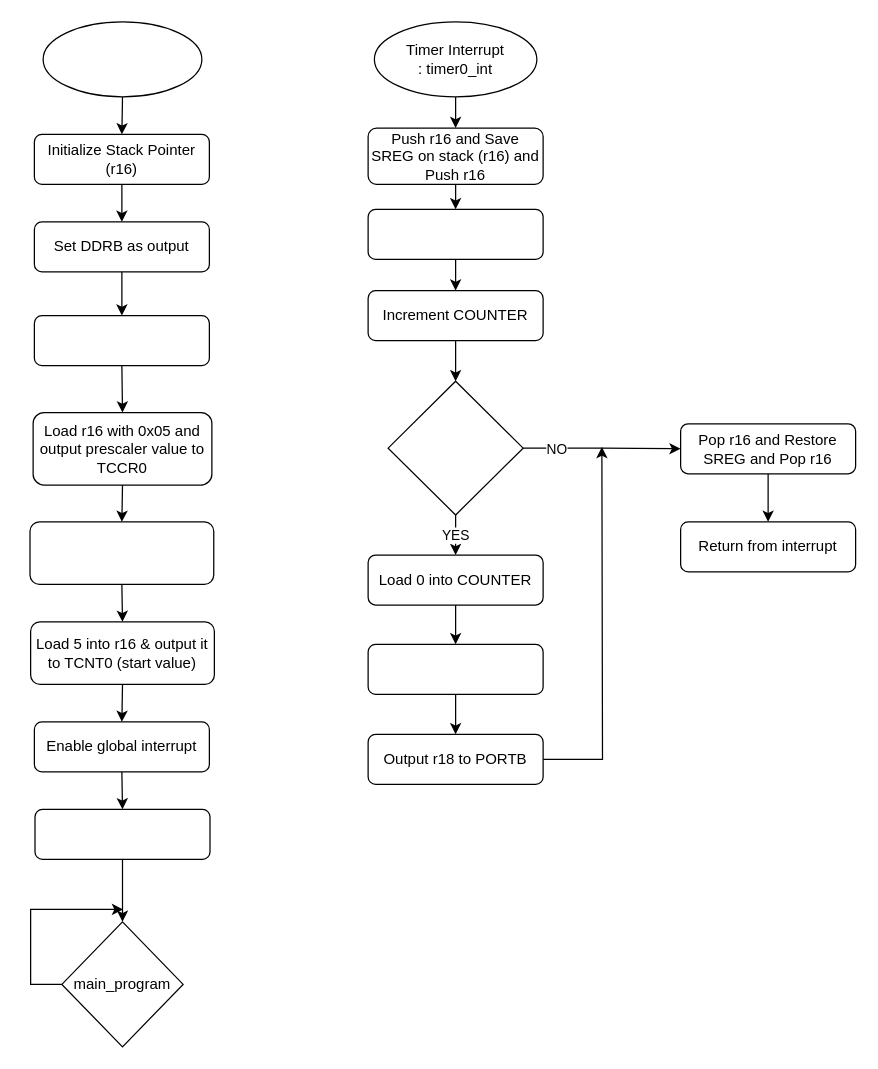
Image size: 878x1069. Some labels were removed from this diagram. The centre of each missing label's shape, as x and y in pixels:
Complementary of the register r18: pixel 455 668
Enable TIMER0: pixel 121 552
Is COUNTER == 2 ?: pixel 455 447
Load 0xFF into r18 Output r18 into PORTB: pixel 121 340
Load 5 into TCNT0: pixel 455 233
Rename r21 into COUNTER: pixel 122 833
Start: pixel 122 59
